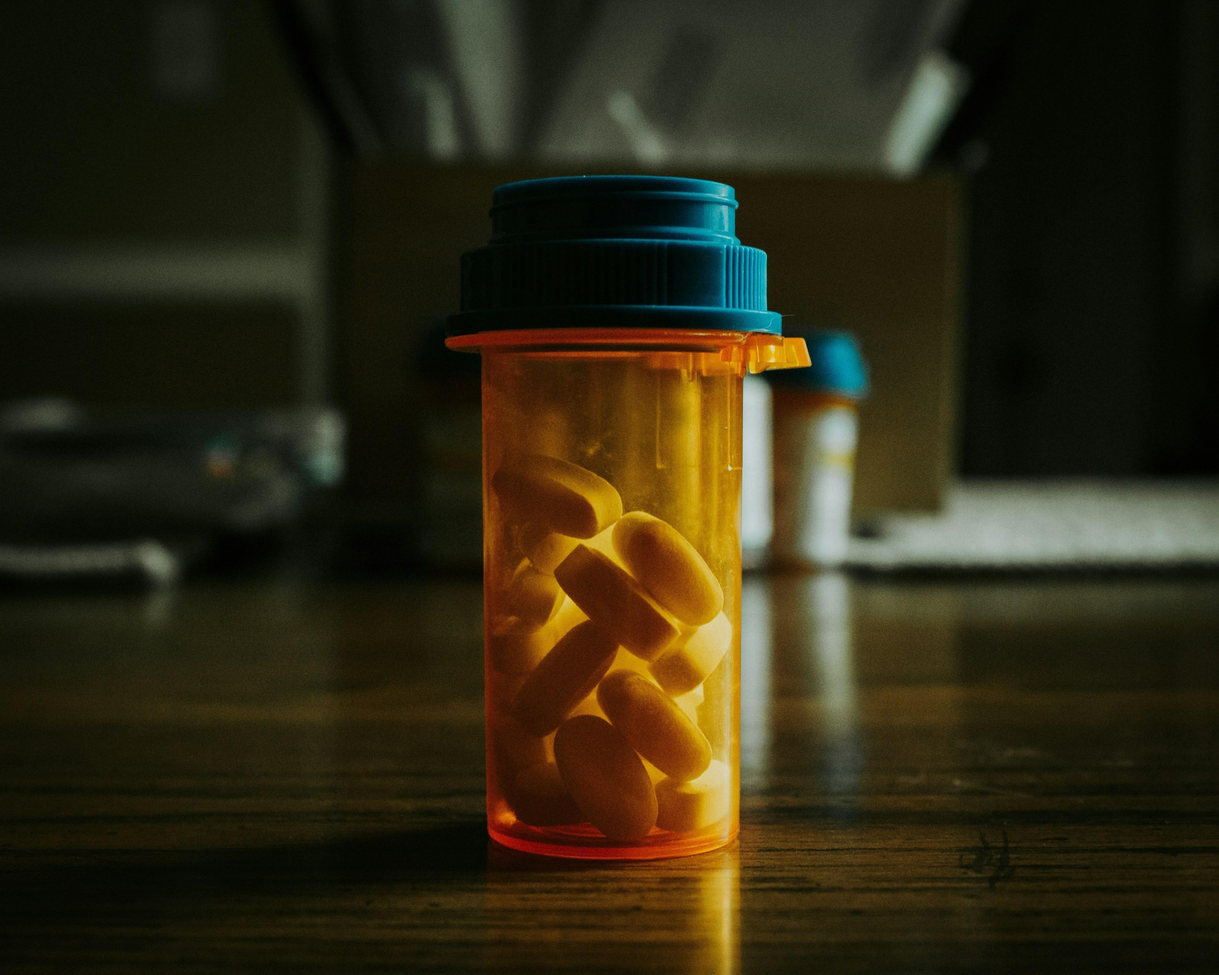Bottle-Detection: (344, 104, 872, 920)
